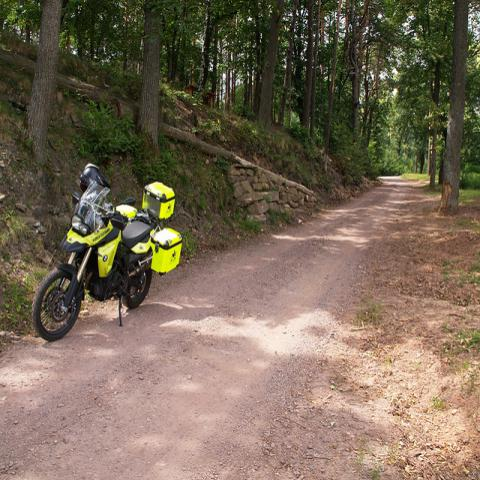motorcycle: (32, 162, 184, 346)
